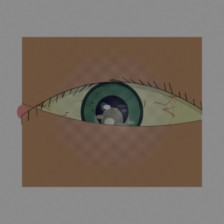corneal_ulcer: (90, 103, 134, 138)
